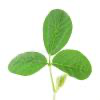Soyabean leaf: (43, 8, 73, 56), (52, 49, 92, 81), (8, 51, 48, 77)
